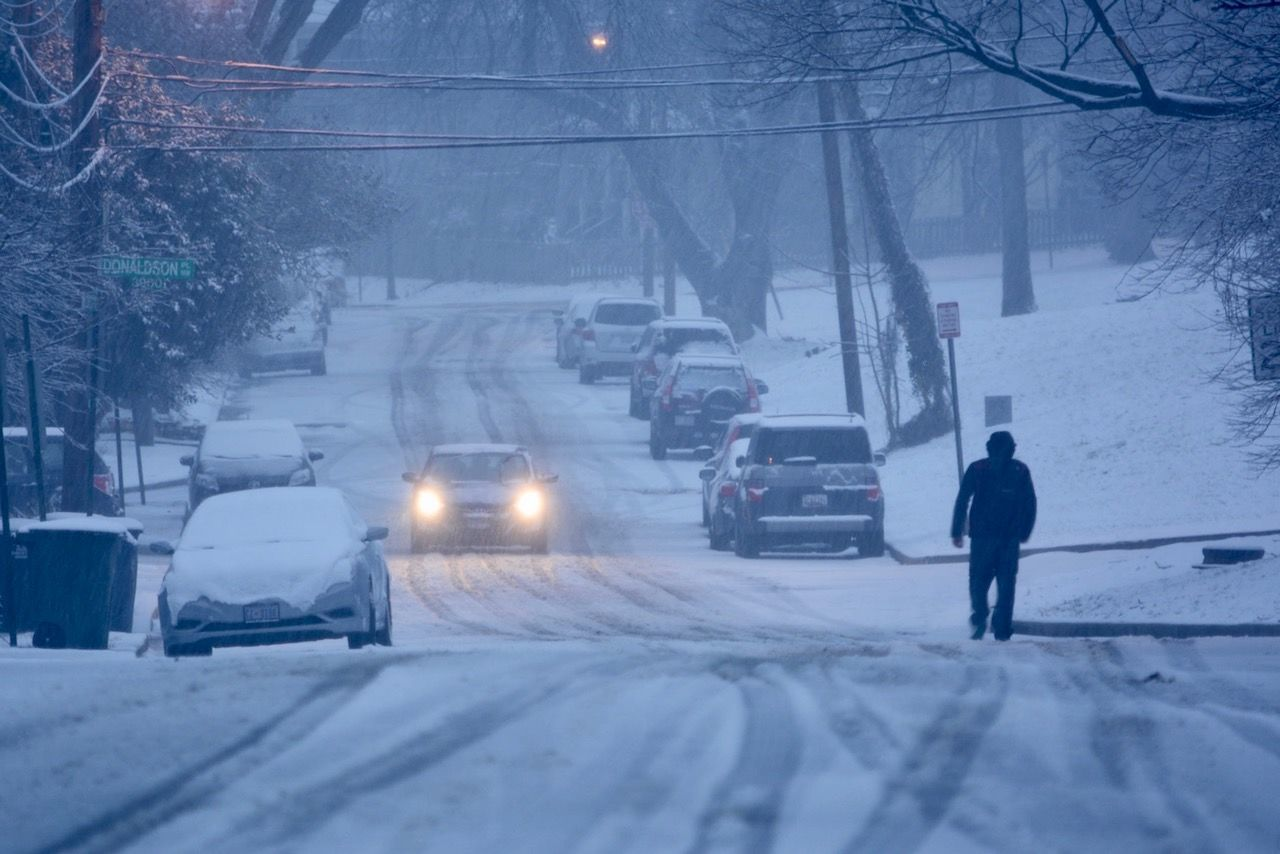car: (150, 475, 394, 658), (742, 417, 889, 565), (410, 441, 556, 551), (184, 418, 312, 511), (649, 359, 766, 457), (9, 420, 127, 516), (638, 343, 746, 443), (234, 292, 326, 379), (575, 293, 664, 377), (705, 439, 738, 548), (556, 302, 586, 368)
person: (951, 433, 1037, 643)
